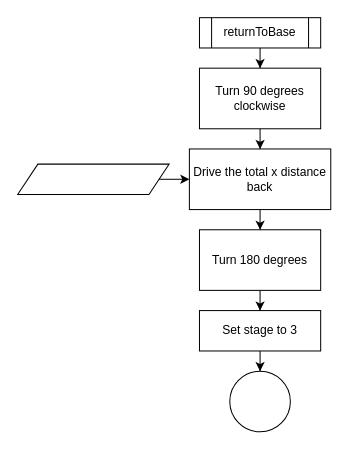
This 348x449 diagram has some shape labels left out. Here are the shapes that lost their labels. From the top down, the centre of each, then its label:
the point at 93,178: lineDistanceDriven
the point at 259,401: Return
